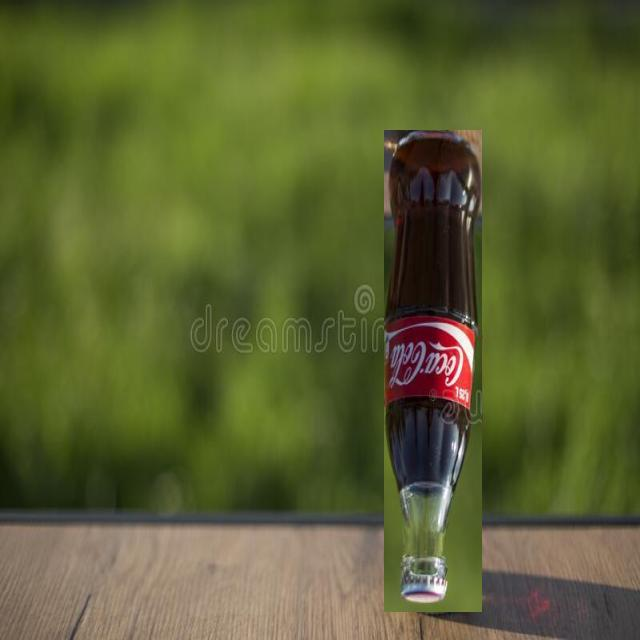coca-cola: (384, 130, 482, 612)
